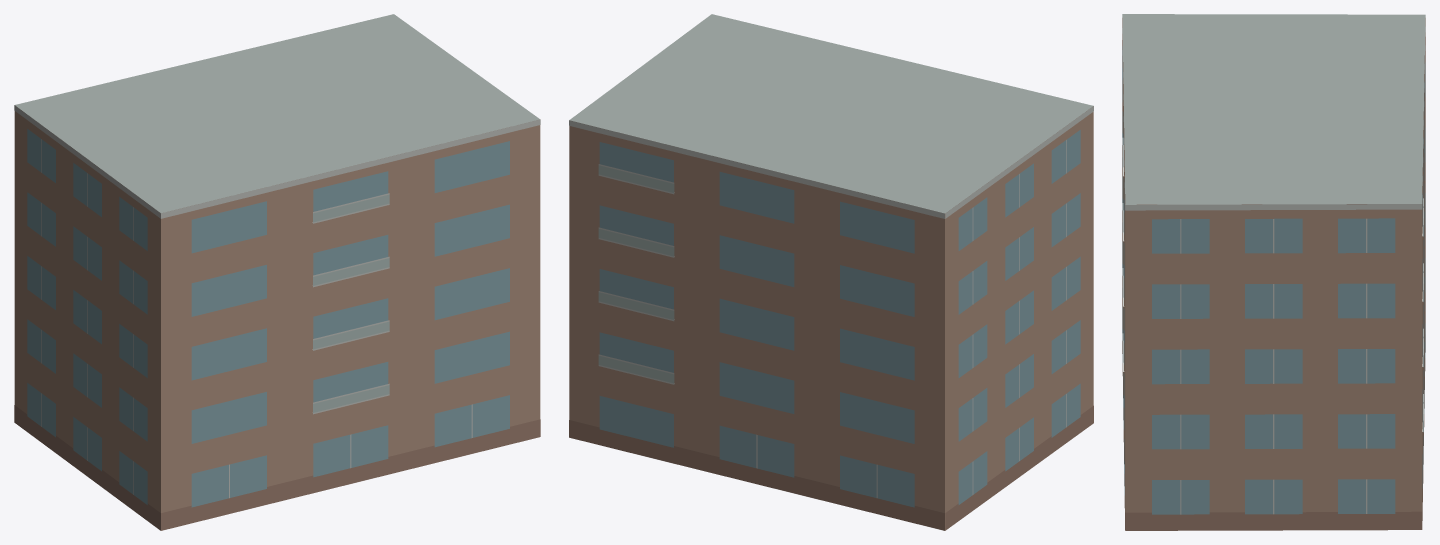
Rendered from survey-upis-32953542.glb.
3 renders of one model, left to right at view 1: azimuth 30°, elevation 25°; view 2: azimuth 150°, elevation 25°; view 3: azimuth 270°, elevation 25°, orthographic. The views are drawn at different scales.
Parts seen in each view (by area): view 1: survey-upis-32953542.tmp; view 2: survey-upis-32953542.tmp; view 3: survey-upis-32953542.tmp.
Boxes of the visible parts, left/top/right/bottom form: survey-upis-32953542.tmp: left=14, top=14, right=540, bottom=530; survey-upis-32953542.tmp: left=569, top=14, right=1093, bottom=530; survey-upis-32953542.tmp: left=1122, top=14, right=1425, bottom=530.
Bounding box in the file's own units: 17.46 × 13.9 × 11.72.
